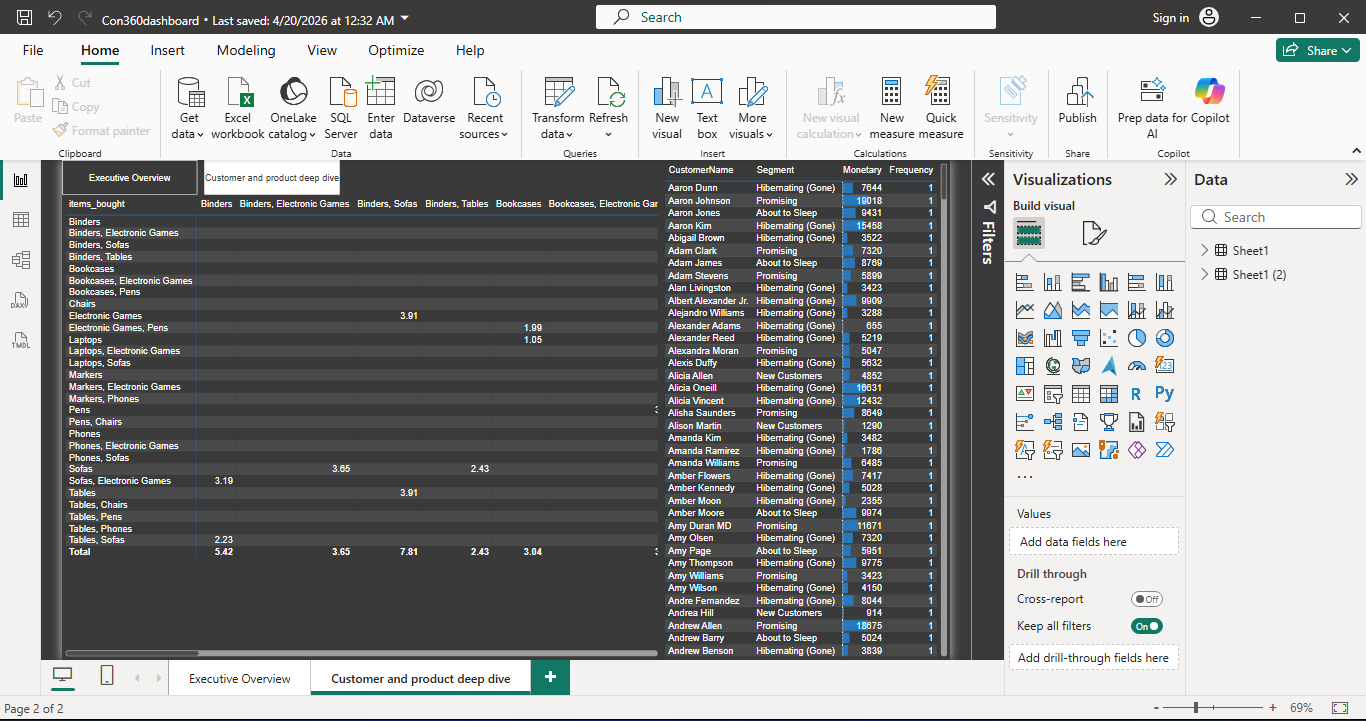

Layout of this report page (visuals, bound fields, positions):
{"tool":"powerbi","page":{"name":"Customer and product deep dive","canvas":[1280,720],"ordinal":1},"visuals":[{"type":"pivotTable","fields":{"Rows":["Sheet1 (2).items_bought"],"Columns":["Sheet1 (2).likely_to_buy_next"],"Values":["Sum(Sheet1 (2).lift)"]},"box":[0,49.4,863.1,671],"z":0},{"type":"tableEx","fields":{"Values":["Sheet1.CustomerName","Sheet1.Segment","Sheet1.Monetary","Sheet1.Frequency"]},"box":[862.9,0,417.1,720],"z":1000},{"type":"pageNavigator","box":[0,0,400,50],"z":2000}]}

Visuals, with their boxes on the page's 1280x720 design canvas (x1, y1, x2, y2). These are canvas units, not pixel positions in the 1366x721 screenshot, which may show the page scaled, cropped or inside an application window:
pivotTable - Sheet1 (2).items_bought x Sheet1 (2).likely_to_buy_next: region(0, 49, 863, 720)
tableEx - Sheet1.CustomerName x Sheet1.Segment: region(863, 0, 1280, 720)
pageNavigator: region(0, 0, 400, 50)
